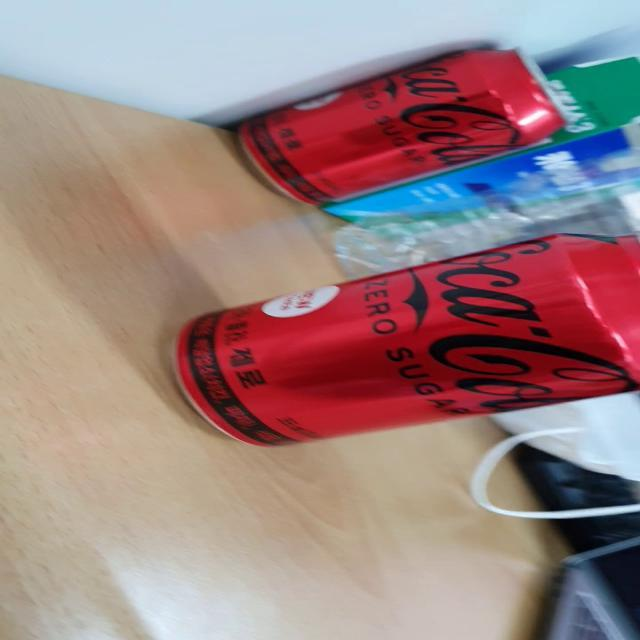coca-cola: (143, 212, 640, 451), (207, 40, 578, 202)
